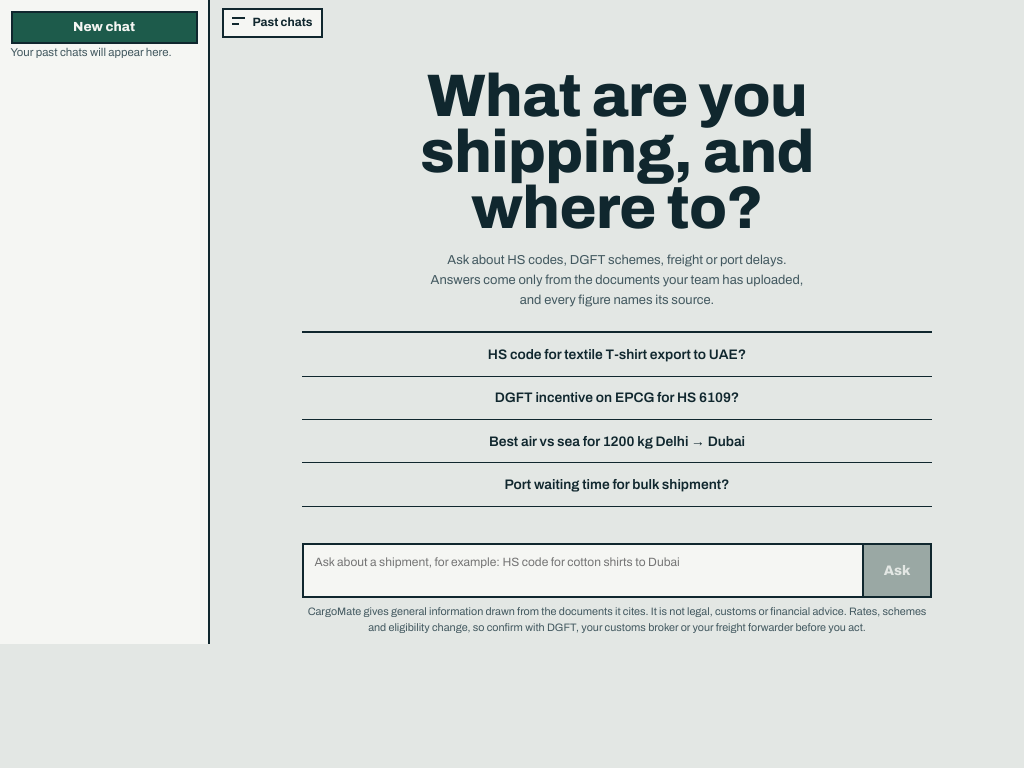
Scenario: Chat history › does not save a question that failed
This screenshot has width=1024, height=768.
Type "will fail" into the text box named "Your question" at (583, 571), box [304,545,862,596]
Then press Enter
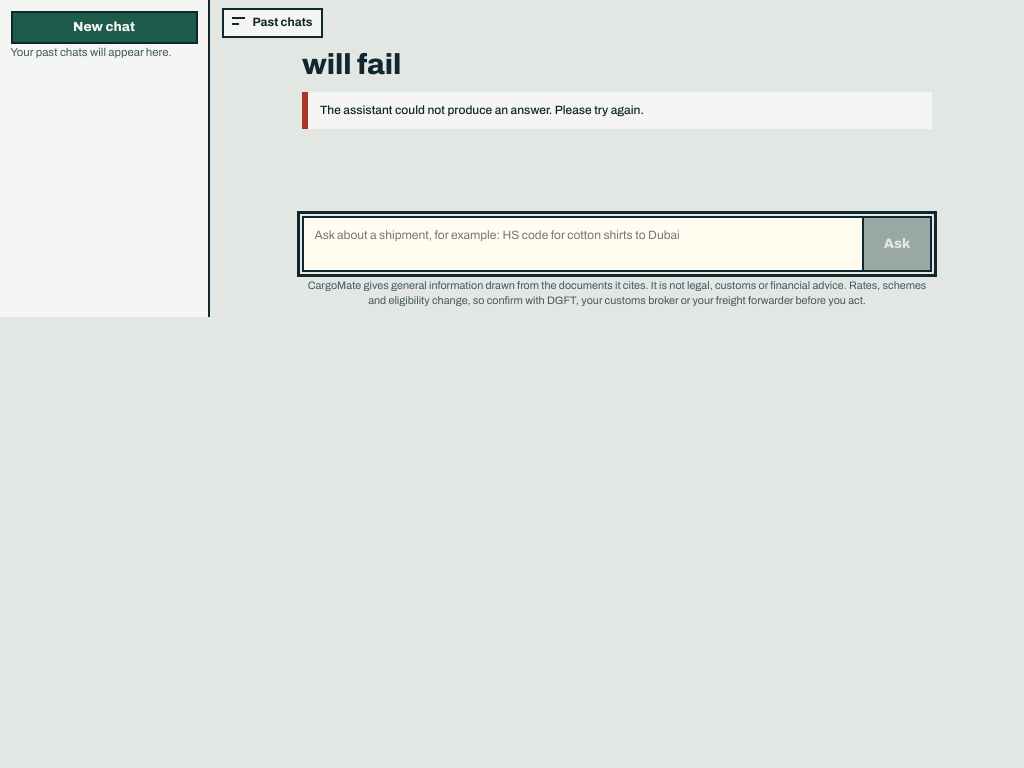
Expected: the text "Your past chats will appear here." is shown, [10,44,198,61]
Result: the message "The assistant could not produce an answer. Please try again." is shown at [302,92,932,129]
